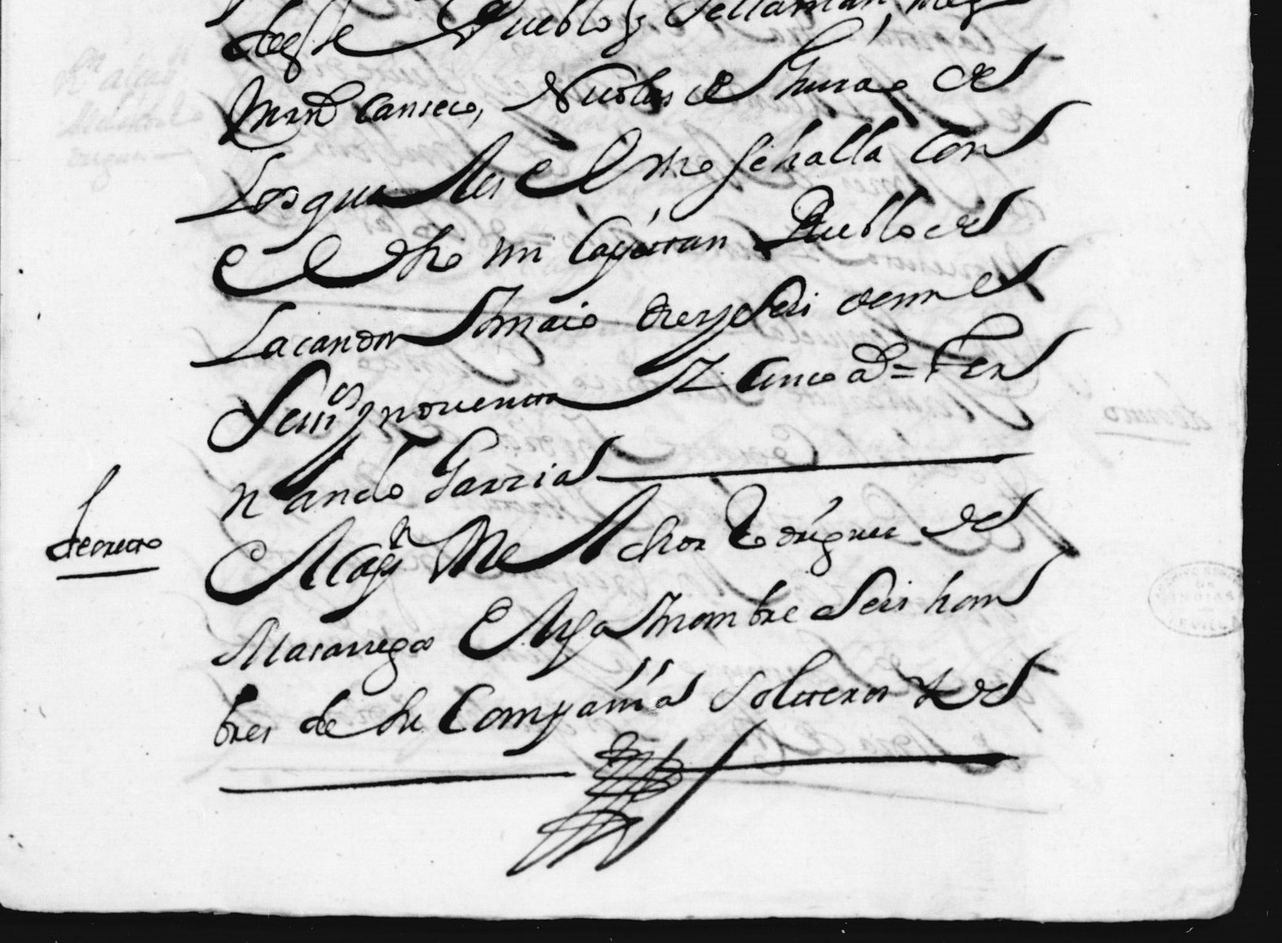lacandon: (190, 287, 494, 368)
